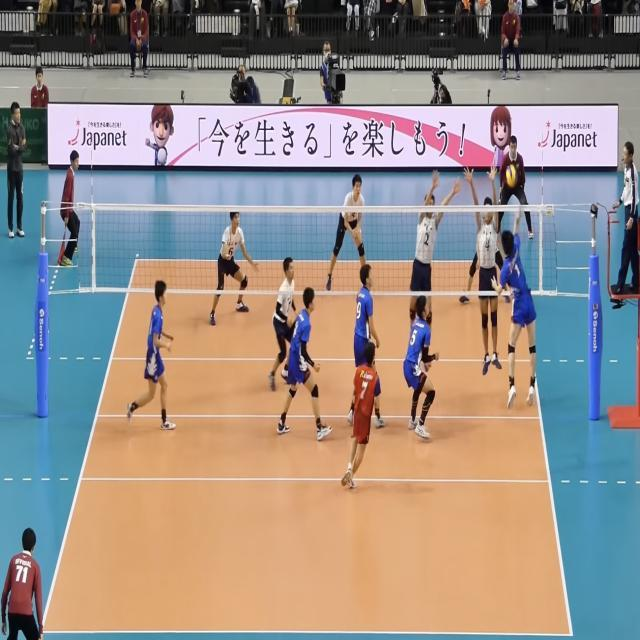spike: (492, 162, 542, 419)
